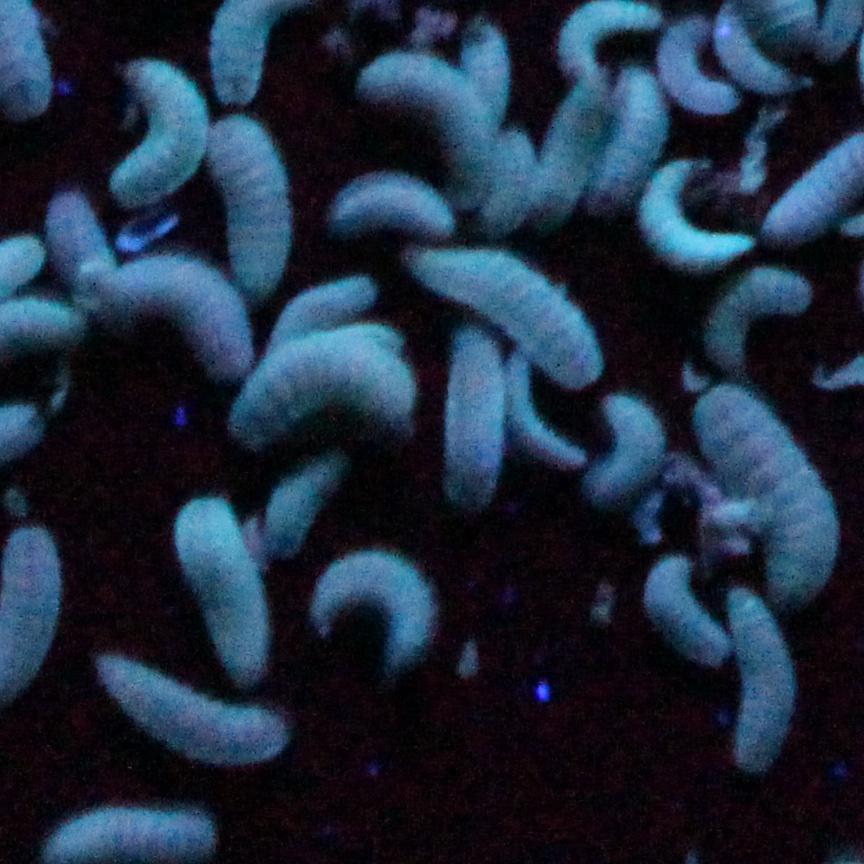larve: (698, 377, 833, 603), (405, 246, 599, 386), (98, 657, 282, 759), (233, 338, 413, 440), (359, 56, 486, 198), (175, 494, 270, 683), (99, 259, 246, 373), (314, 544, 437, 664), (723, 582, 801, 771), (213, 125, 289, 294), (121, 60, 206, 208), (644, 164, 748, 279), (703, 277, 811, 368), (535, 85, 604, 224), (547, 1, 659, 83), (448, 327, 499, 507), (648, 546, 720, 665), (40, 810, 214, 859), (329, 175, 458, 234), (604, 67, 659, 203), (656, 21, 731, 114), (598, 391, 659, 504), (712, 6, 790, 93), (266, 461, 335, 559), (511, 361, 578, 461), (40, 190, 113, 275), (271, 279, 376, 336), (463, 16, 508, 124)
